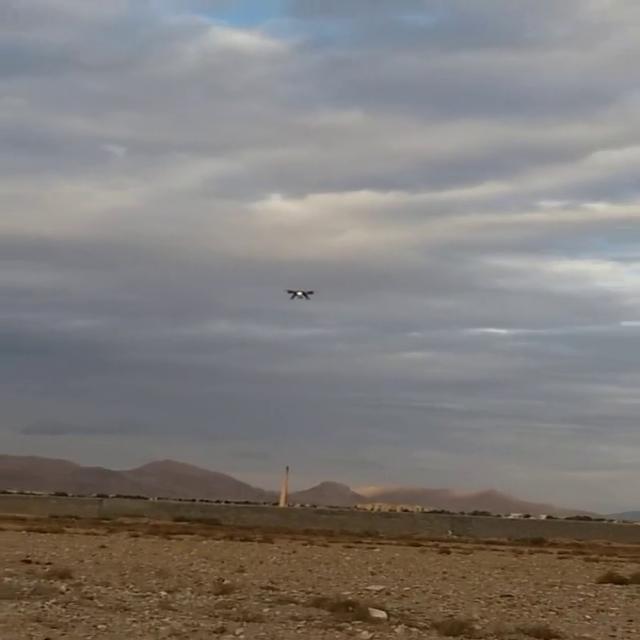drone: (278, 284, 318, 304)
